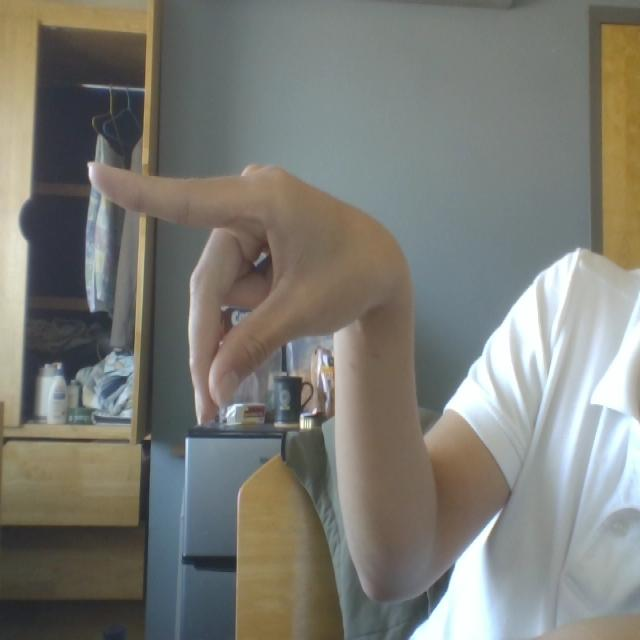P: (49, 68, 443, 443)
